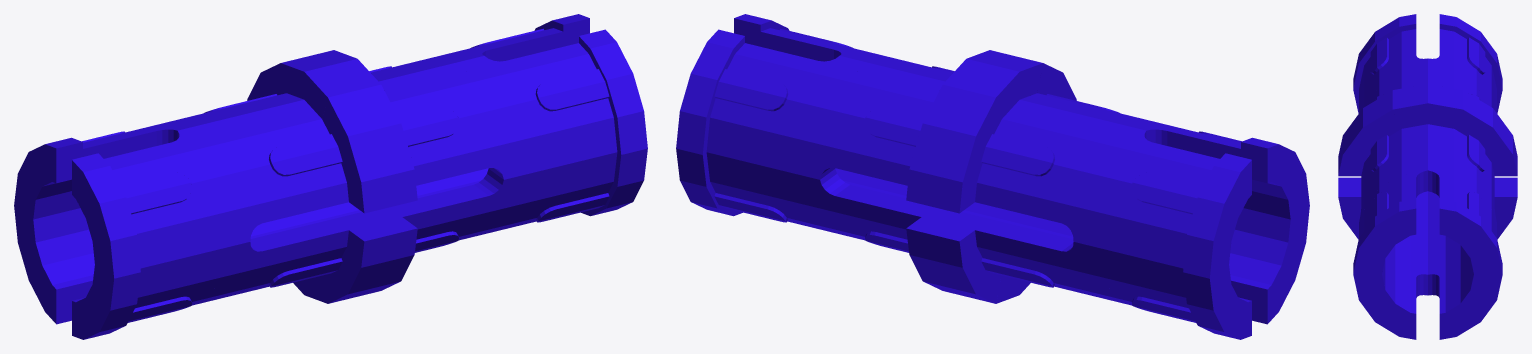
3 views of the same model, side by side, from view 1: azimuth 30°, elevation 25°; view 2: azimuth 150°, elevation 25°; view 3: azimuth 270°, elevation 25° (orthographic). The views are drawn at different scales.
Parts seen in each view (by area): view 1: node; view 2: node; view 3: node.
Boxes of the visible parts, <box> form: node: <box>14,14,647,339</box>; node: <box>676,14,1309,339</box>; node: <box>1338,14,1517,339</box>.
Bounding box in the file's own units: 40 × 16 × 15.6.
Materials: 1 (1 with a texture image).
